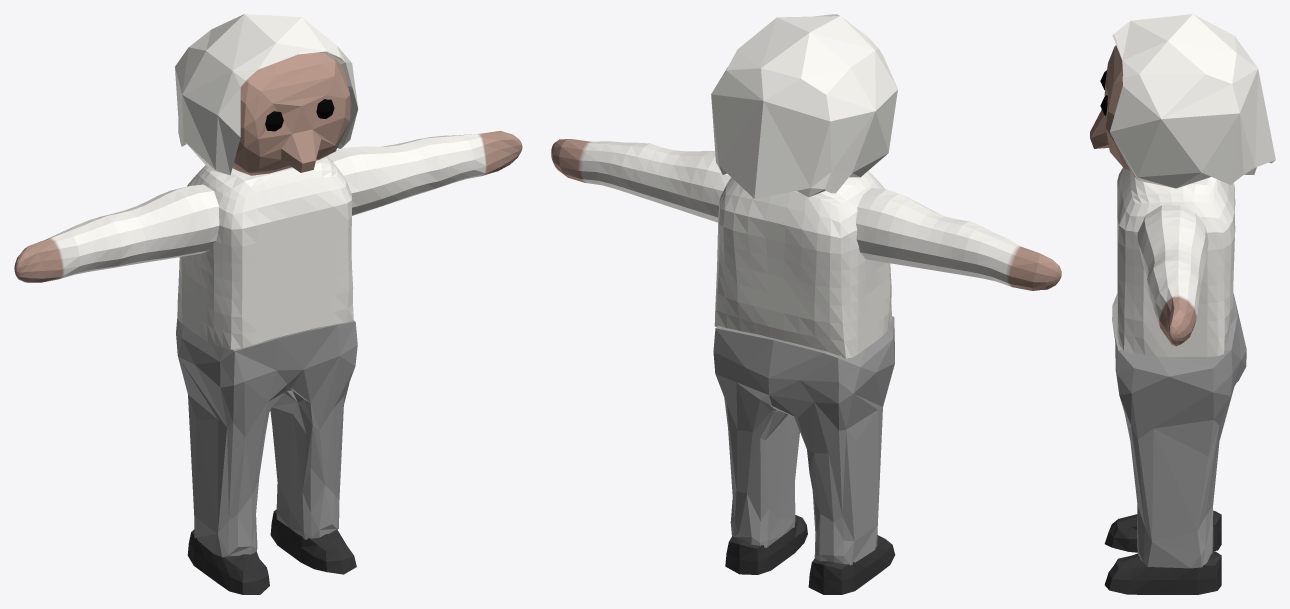
Rendered from DmcHero1.glb.
3 renders of one model, left to right at view 1: azimuth 30°, elevation 25°; view 2: azimuth 150°, elevation 25°; view 3: azimuth 270°, elevation 25°, orthographic.
Visible parts, largest first — view 1: Legs, Torso, Helmet, ArmR, Head, ArmL, FootR, FootL; view 2: Legs, Helmet, Torso, ArmR, ArmL, FootR, FootL; view 3: Helmet, Legs, Torso, ArmL, FootL, Head, FootR.
Part boxes in pixels (box(x1,y1,x2,y2)): Legs: box(176, 319, 357, 557); Torso: box(177, 156, 353, 350); Helmet: box(175, 14, 358, 175); ArmR: box(14, 184, 219, 282); Head: box(232, 53, 351, 175); ArmL: box(327, 130, 522, 215); FootR: box(187, 529, 269, 594); FootL: box(270, 509, 356, 574); Legs: box(713, 316, 894, 565); Helmet: box(711, 14, 897, 198); Torso: box(714, 171, 892, 358); ArmR: box(856, 188, 1061, 290); ArmL: box(551, 139, 731, 222); FootR: box(808, 535, 895, 594); FootL: box(725, 515, 807, 574); Helmet: box(1110, 14, 1275, 188); Legs: box(1112, 293, 1246, 568); Torso: box(1117, 167, 1235, 356); ArmL: box(1137, 205, 1208, 346); FootL: box(1104, 551, 1221, 594); Head: box(1090, 45, 1130, 171); FootR: box(1104, 510, 1221, 552).
Size of the model in its own units: 4.12 by 4.21 by 1.3.
